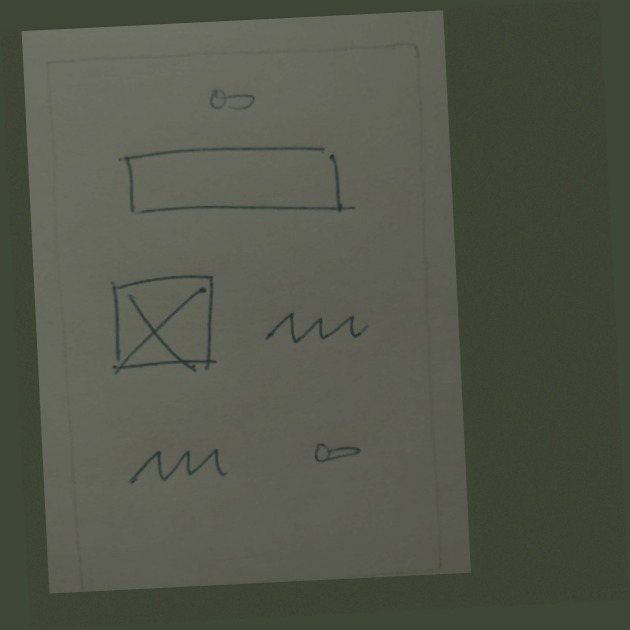image: (95, 266, 231, 385)
switch: (294, 429, 387, 473), (197, 79, 275, 123)
text: (106, 438, 239, 489), (258, 299, 379, 351)
text_input: (105, 135, 367, 231)
